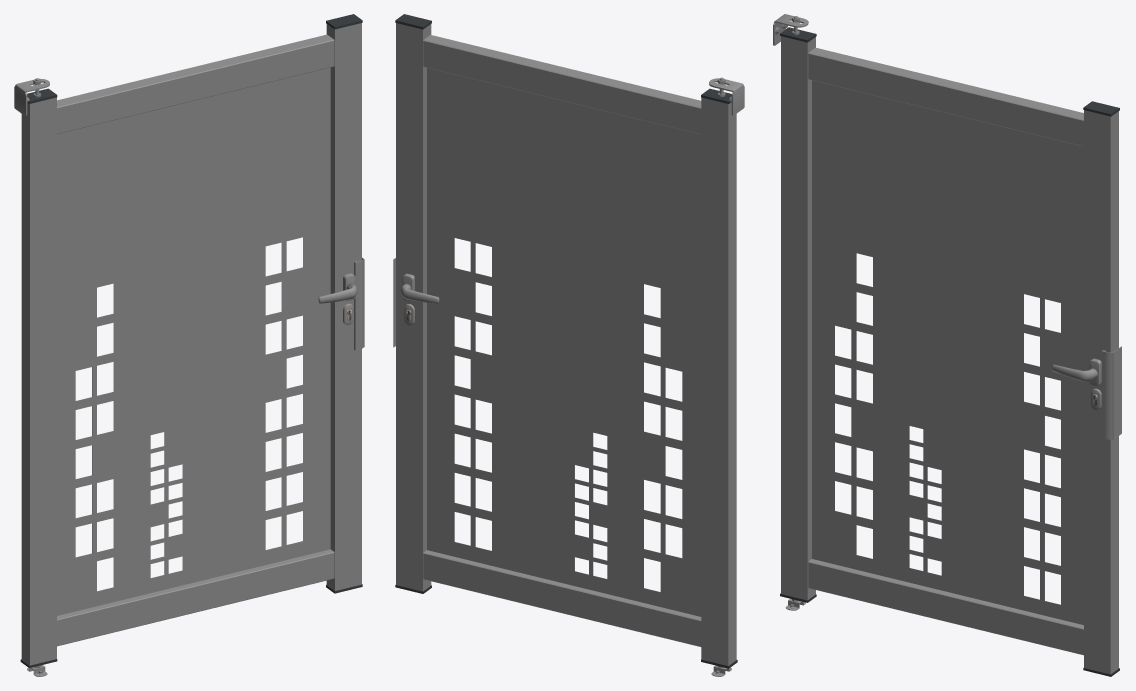
3 renders of one model, left to right at view 1: azimuth 30°, elevation 25°; view 2: azimuth 150°, elevation 25°; view 3: azimuth 330°, elevation 25°, orthographic.
Visible parts, largest first — view 1: ville, Shape107412643, Shape107412638, Shape107412685, Shape107412686, Shape107412637, Rectangle057; view 2: ville, Shape107412643, Shape107412638, Shape107412685, Shape107412686, Rectangle057; view 3: ville, Shape107412638, Shape107412643, Shape107412685, Shape107412686, Shape107412637.
Part boxes in pixels (x1=…): ville: x1=57, y1=67, x2=330, y2=615; Shape107412643: x1=21, y1=97, x2=56, y2=665; Shape107412638: x1=326, y1=23, x2=361, y2=590; Shape107412685: x1=57, y1=34, x2=334, y2=133; Shape107412686: x1=57, y1=549, x2=334, y2=646; Shape107412637: x1=354, y1=257, x2=364, y2=350; Rectangle057: x1=14, y1=78, x2=49, y2=116; ville: x1=427, y1=68, x2=701, y2=616; Shape107412643: x1=701, y1=97, x2=736, y2=665; Shape107412638: x1=396, y1=23, x2=431, y2=591; Shape107412685: x1=423, y1=35, x2=701, y2=134; Shape107412686: x1=423, y1=550, x2=701, y2=646; Rectangle057: x1=709, y1=78, x2=744, y2=115; ville: x1=812, y1=80, x2=1083, y2=624; Shape107412638: x1=1084, y1=110, x2=1118, y2=674; Shape107412643: x1=781, y1=36, x2=815, y2=600; Shape107412685: x1=808, y1=47, x2=1083, y2=146; Shape107412686: x1=808, y1=559, x2=1083, y2=655; Shape107412637: x1=1101, y1=346, x2=1121, y2=439.
Size of the model in its own units: 1015 by 1688 by 152.
7 materials, 4 textured.
